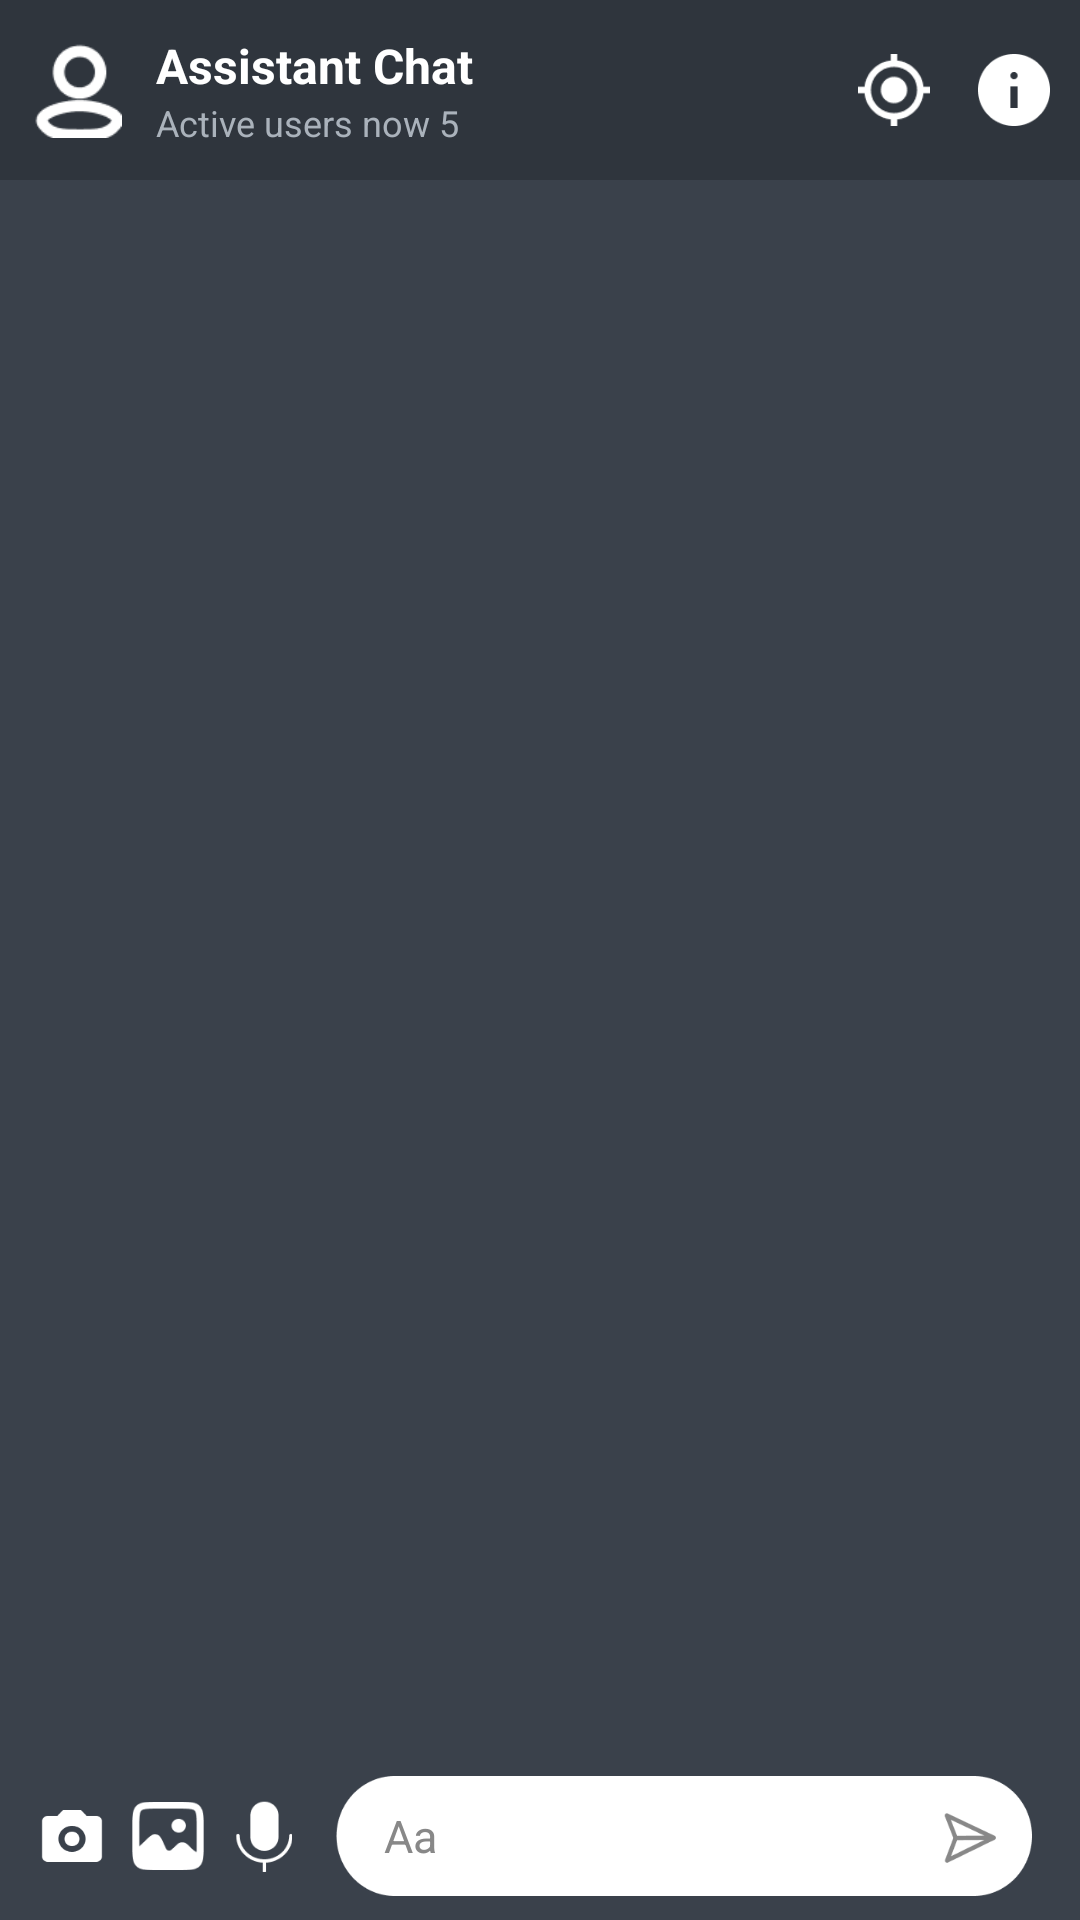

Where icons sit on this 1080×1920 app screen, as bbox=[x1, y1, x2, y2]:
Camera: bbox=[42, 1810, 102, 1862]
Gallery: bbox=[132, 1802, 204, 1870]
gps fixed: bbox=[858, 54, 930, 126]
info: bbox=[978, 54, 1050, 126]
Mic: bbox=[236, 1801, 292, 1872]
profile: bbox=[35, 45, 122, 138]
Send: bbox=[944, 1813, 996, 1863]
